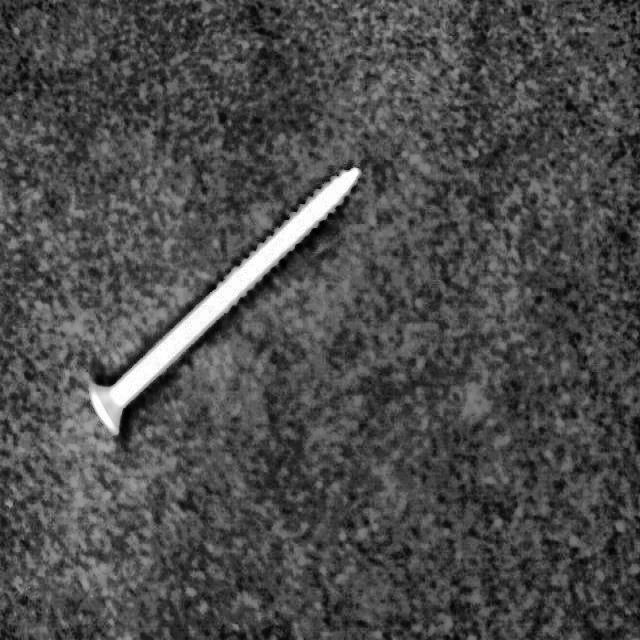Wood screw: (88, 164, 361, 435)
